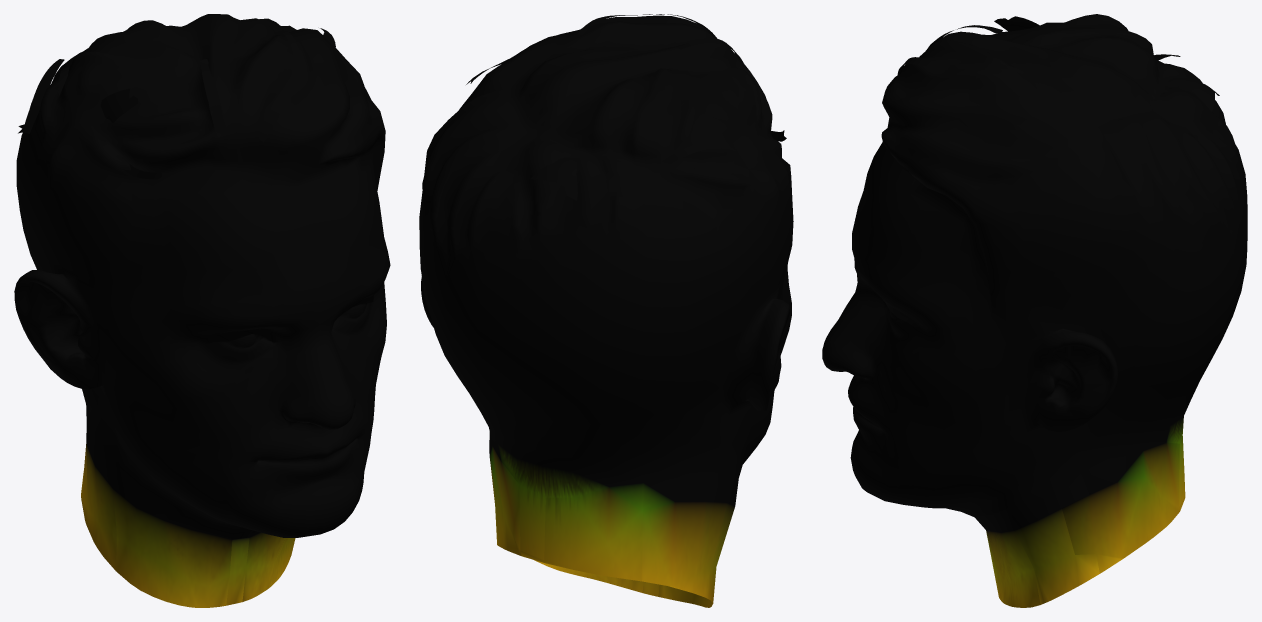
Rendered from MEL_17.glb.
The picture shows the model from 3 angles, left to right: view 1: azimuth 30°, elevation 25°; view 2: azimuth 150°, elevation 25°; view 3: azimuth 270°, elevation 25°; orthographic projection.
Parts seen in each view (by area): view 1: tripo_node_8c1fc958-3481-41e6-874c-a10efee20c80; view 2: tripo_node_8c1fc958-3481-41e6-874c-a10efee20c80; view 3: tripo_node_8c1fc958-3481-41e6-874c-a10efee20c80.
Part boxes in pixels (x1,y1,x2,y2): tripo_node_8c1fc958-3481-41e6-874c-a10efee20c80: (14,14,390,607); tripo_node_8c1fc958-3481-41e6-874c-a10efee20c80: (419,14,793,607); tripo_node_8c1fc958-3481-41e6-874c-a10efee20c80: (822,14,1247,607).
Size of the model in its own units: 0.2334 by 0.3604 by 0.2525.
1 material, 1 textured.
